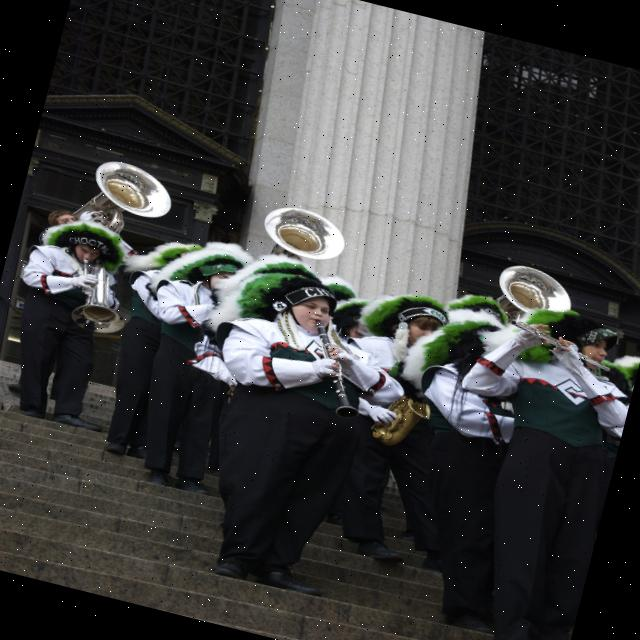clarinet: (294, 322, 381, 428)
